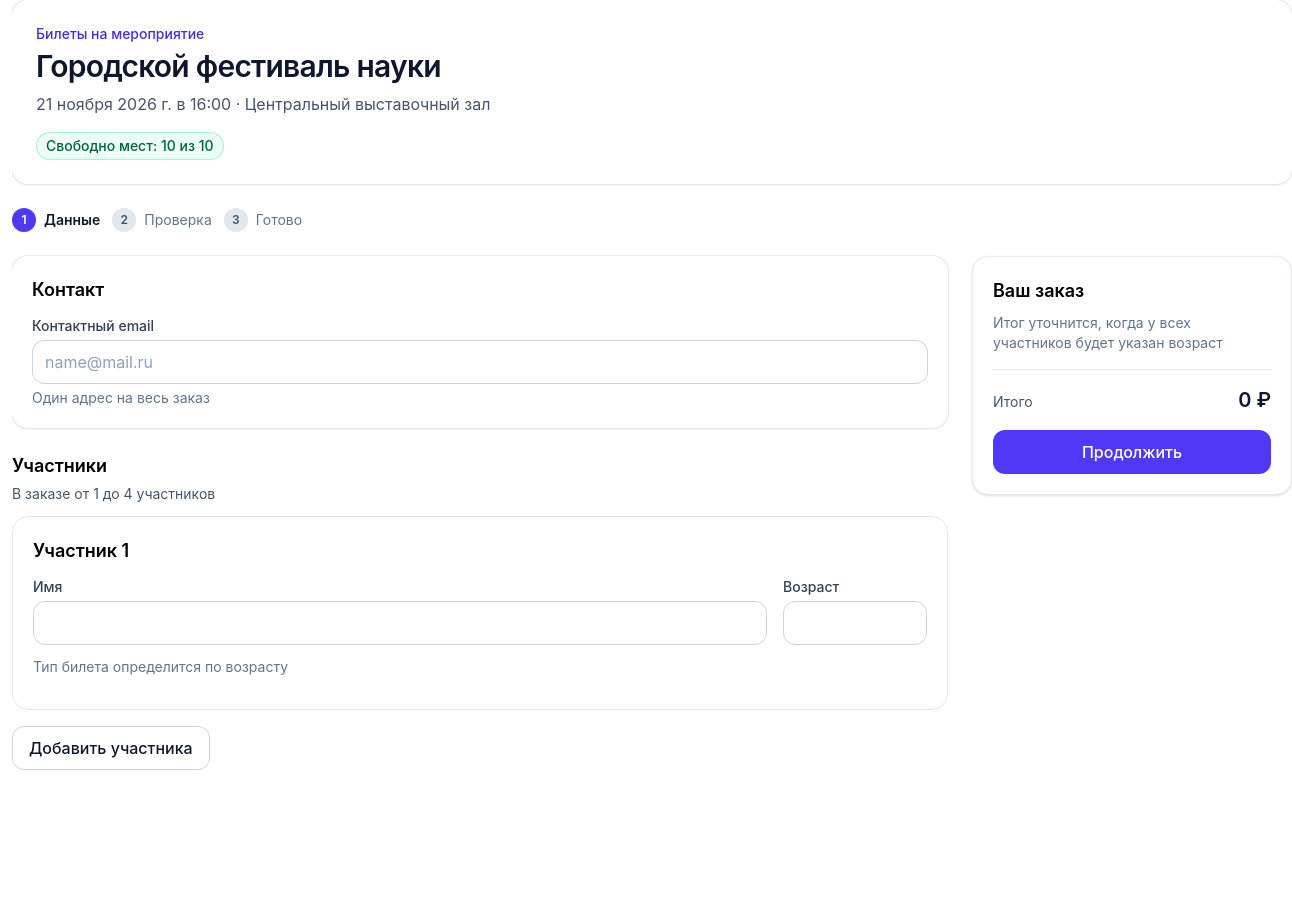
it: состав заказа › удаление участника; у единственного кнопки удаления нет
Click the button "Добавить участника". click: (111, 748)
box: [12,726,210,770]
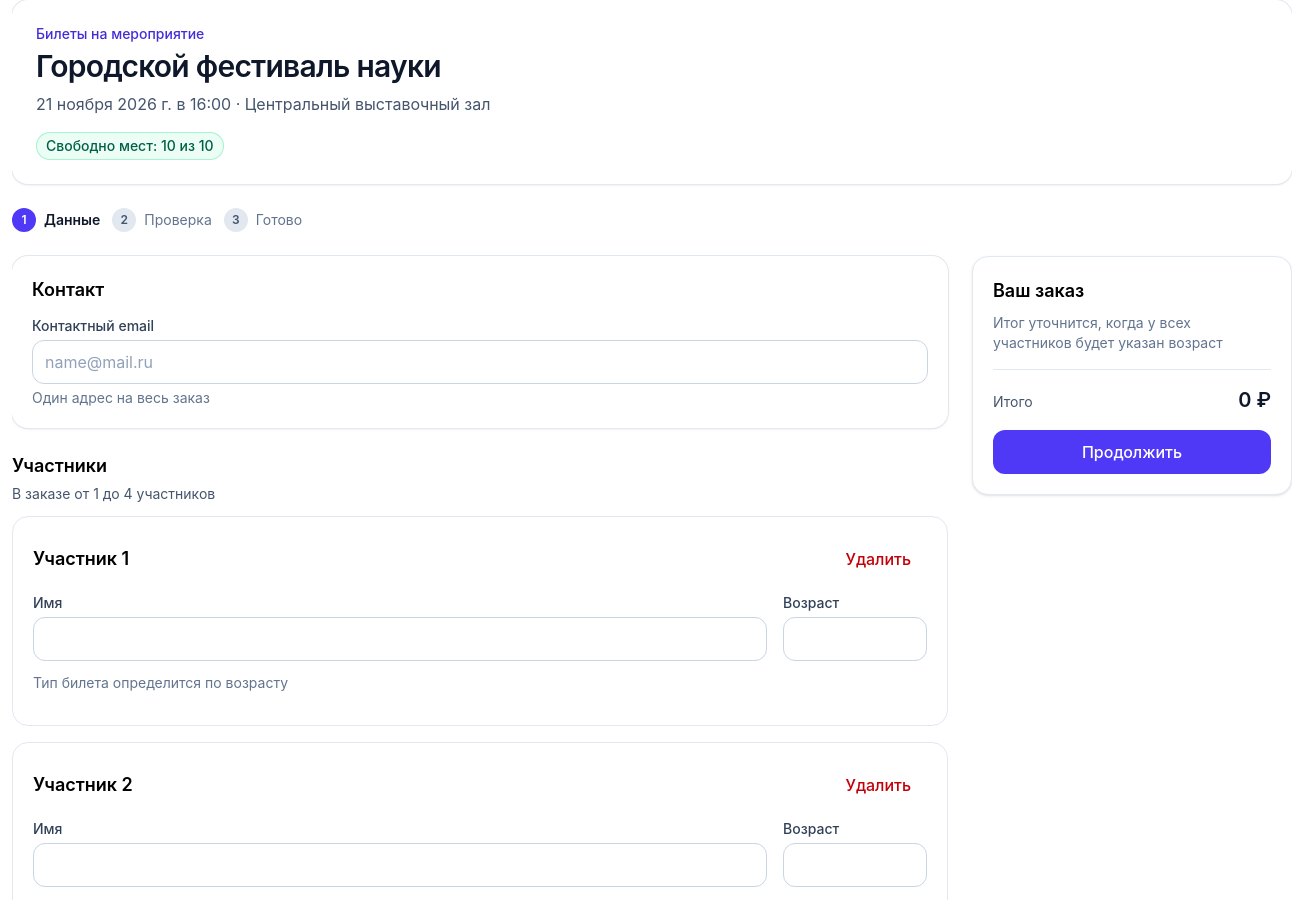
Click the button with aria-label "Удалить участника 2". click: (878, 785)
box: [830,763,927,807]
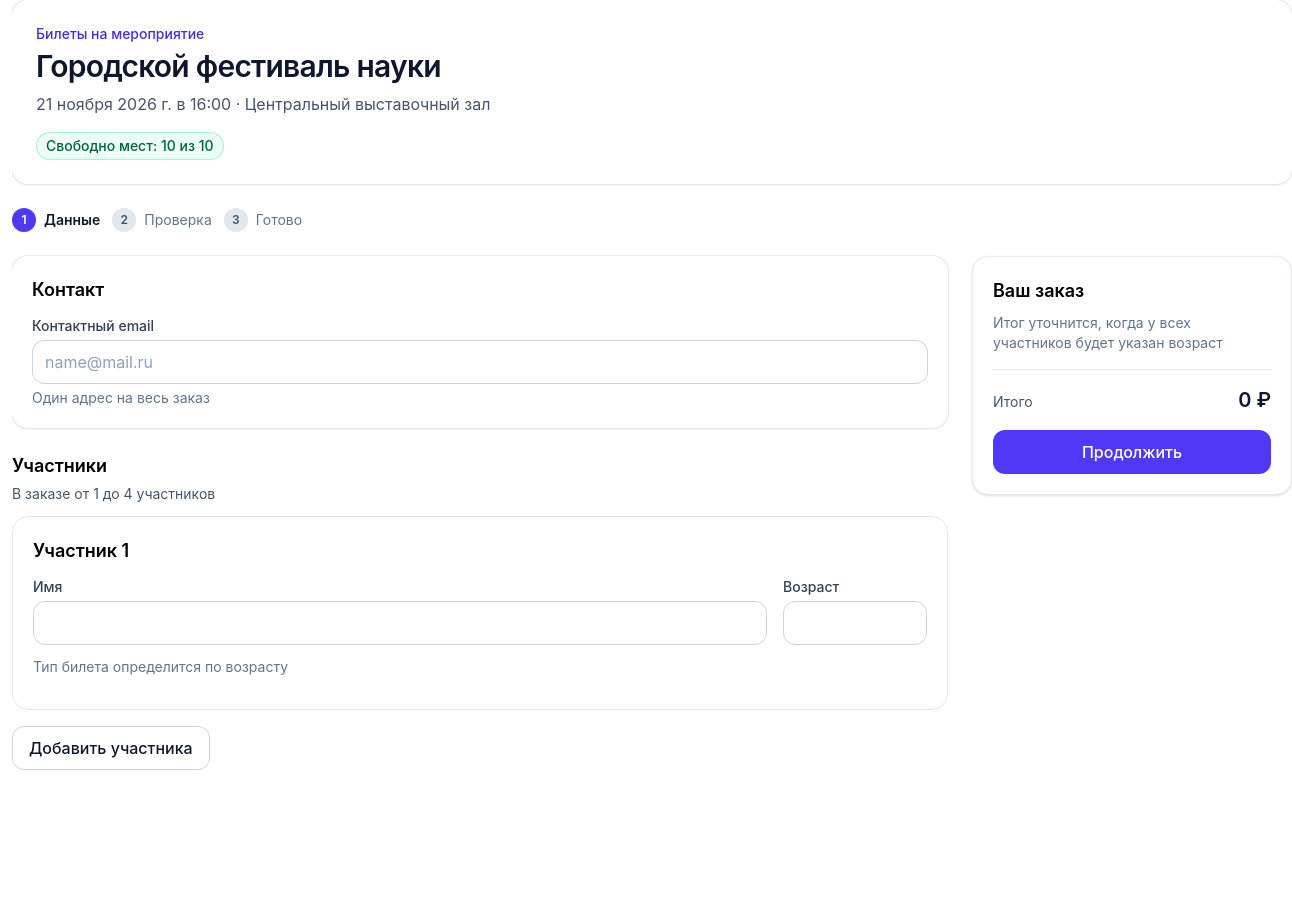
Check: the number of headings "Участник 1" is 1, box [33,537,129,565]
